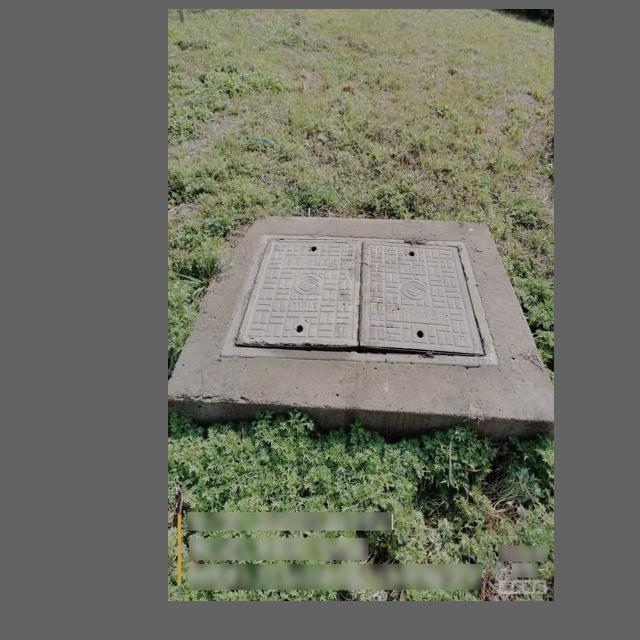good: (245, 222, 497, 368)
